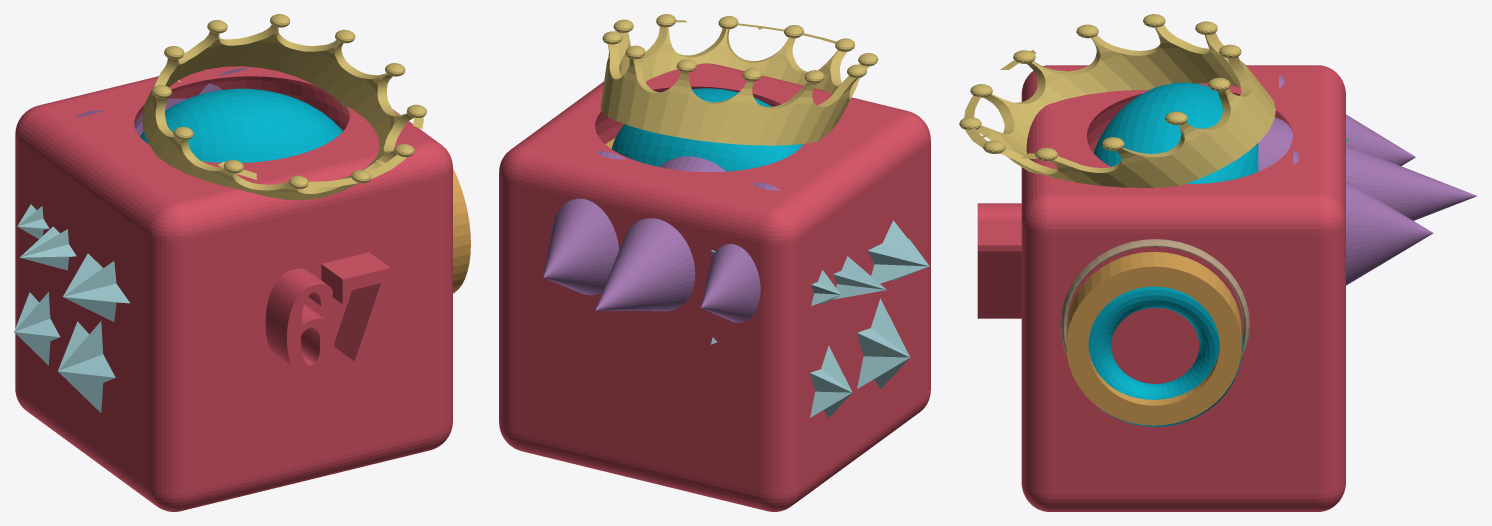
File: charlie collar needs dreamy trio please.glb
3 views of the same model, side by side, from view 1: azimuth 30°, elevation 25°; view 2: azimuth 150°, elevation 25°; view 3: azimuth 270°, elevation 25° (orthographic). The views are drawn at different scales.
Parts seen in each view (by area): view 1: Mesh_Mesh_head_geo.001_lambert2SG.001; view 2: Mesh_Mesh_head_geo.001_lambert2SG.001; view 3: Mesh_Mesh_head_geo.001_lambert2SG.001.
Part boxes in pixels (<box>): Mesh_Mesh_head_geo.001_lambert2SG.001: <box>14,14,470,511</box>; Mesh_Mesh_head_geo.001_lambert2SG.001: <box>499,14,930,511</box>; Mesh_Mesh_head_geo.001_lambert2SG.001: <box>959,14,1476,511</box>.
Bounding box in the file's own units: 0.0507 × 0.0507 × 0.0591.
